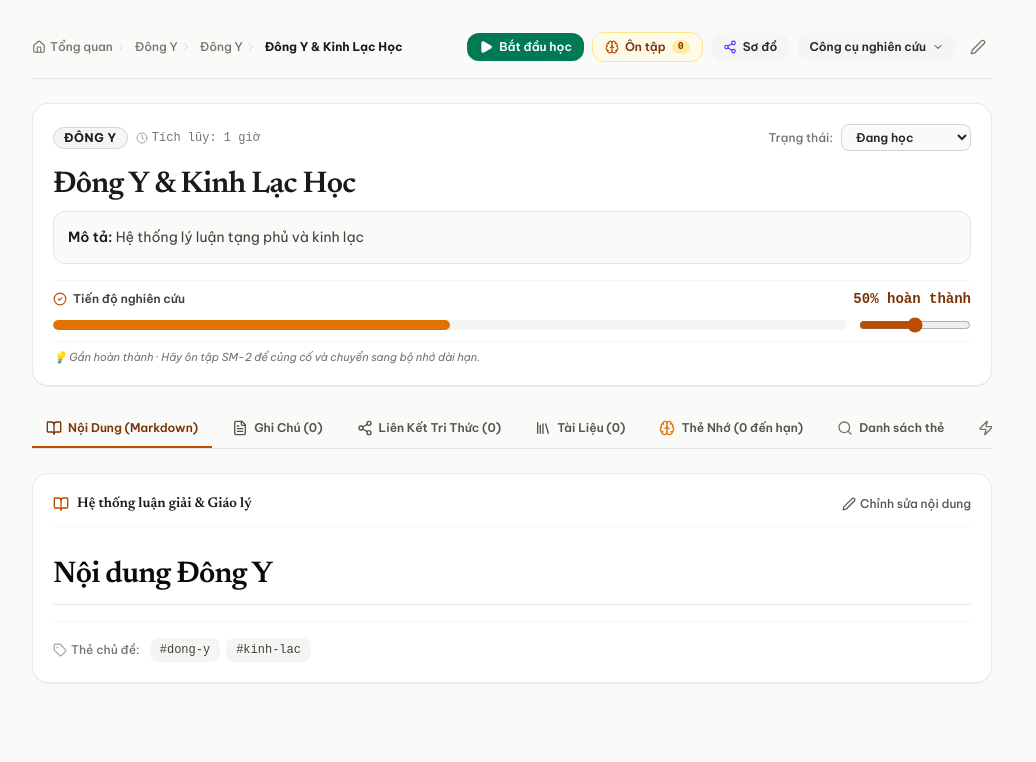
Test: Phase F6.4 — Topic Detail Flashcard Hub › 2. displays topic-scoped flashcard summary (due count, new/learning/review, retention rate)
The image size is (1036, 762).
# Click on Flashcards tab
What coordinates should you click on to do the following:
click the button with test id "tab-btn-flashcards"
I would click on:
 (731, 429)
Its box is [646,410,817,448].
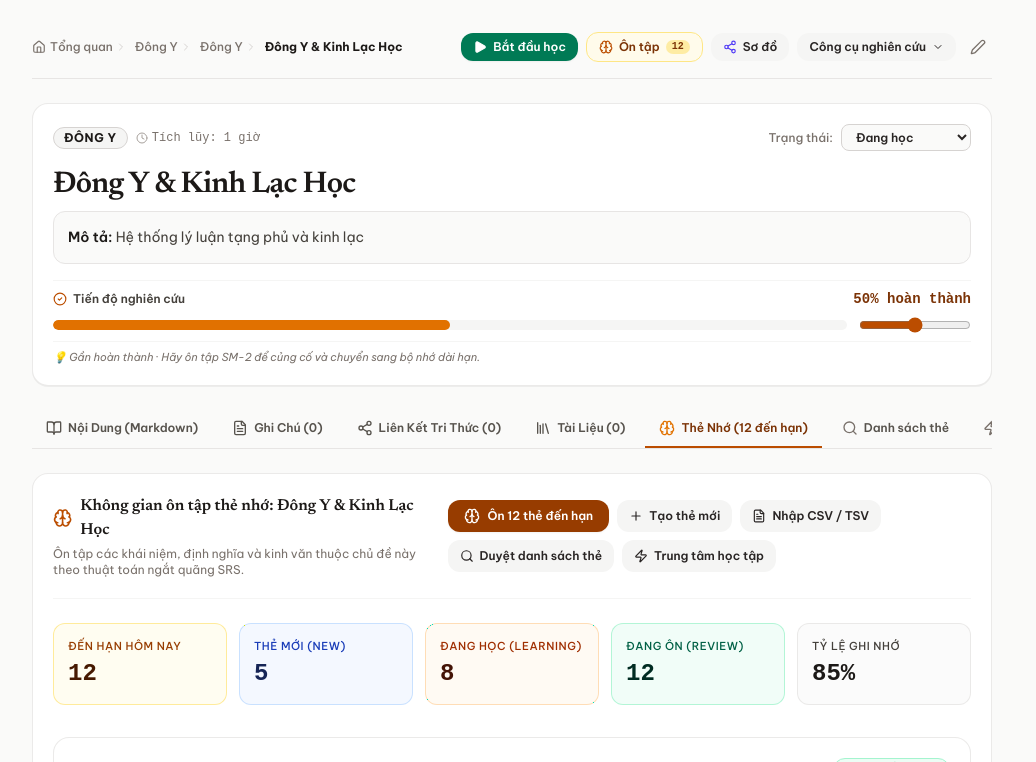
Result: the element with test id "topic-flashcard-summary" is shown at [53,623,971,705]
Result: the text with test id "stat-due-count" reads "12" at [68,660,97,687]
Result: the text with test id "stat-new-count" reads "5" at [254,660,268,687]
